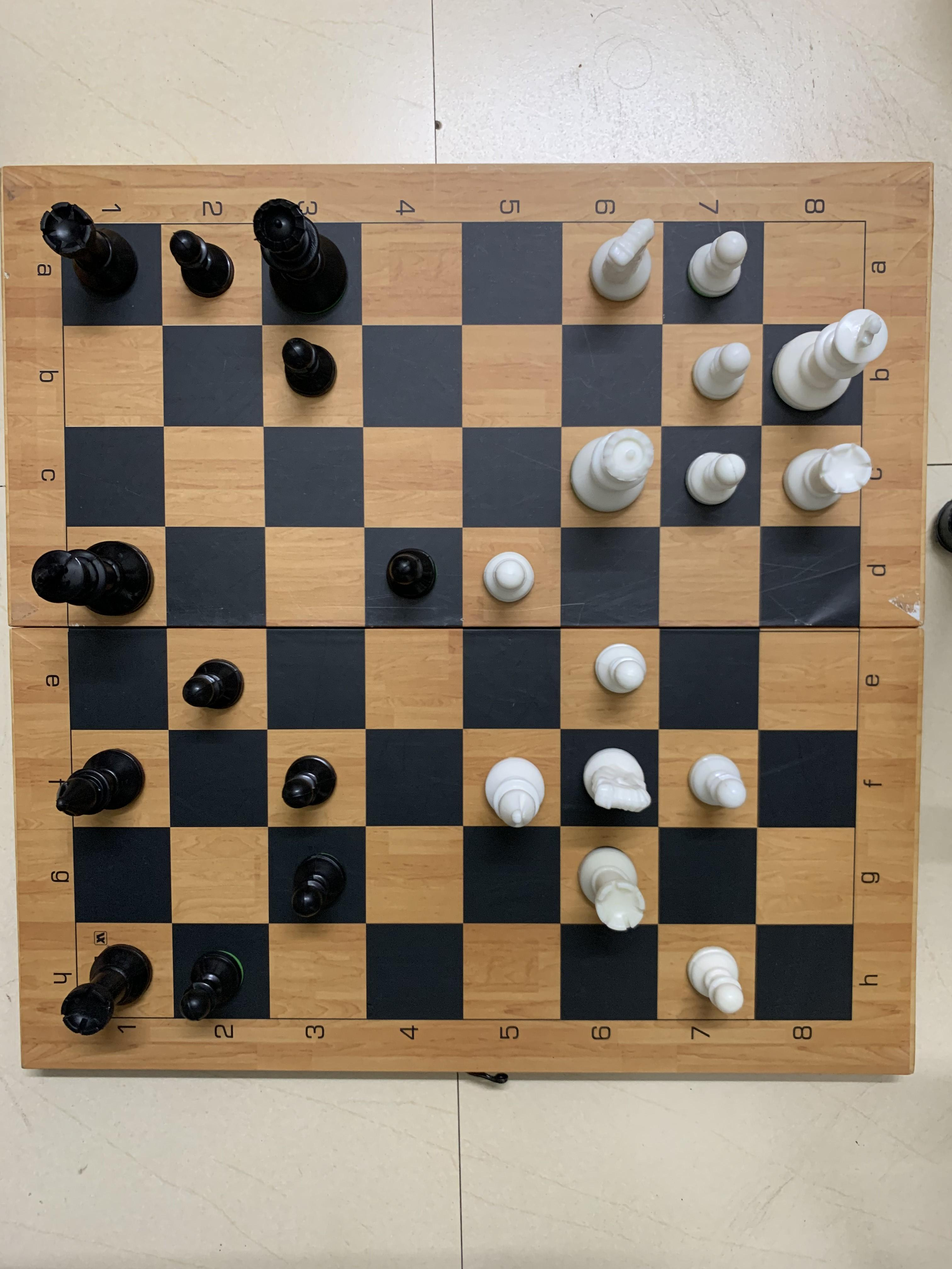black_bishop: (52, 743, 148, 826)
black_king: (23, 531, 158, 619)
black_pawn: (177, 944, 254, 1031), (164, 221, 239, 303), (272, 333, 345, 404), (285, 844, 349, 922), (183, 651, 248, 716), (274, 751, 342, 813), (383, 542, 441, 606)
black_queen: (243, 193, 357, 320)
black_rook: (33, 197, 149, 306), (56, 936, 155, 1039)
white_bishop: (477, 751, 550, 832)
white_king: (768, 301, 899, 417)
white_knight: (582, 215, 672, 312), (578, 739, 655, 824)
white_pawn: (682, 939, 753, 1017), (679, 748, 755, 815), (684, 335, 753, 408), (687, 228, 750, 298), (476, 545, 543, 607), (683, 444, 746, 509), (589, 637, 649, 702)
white_queen: (552, 425, 666, 516)
white_rook: (571, 840, 660, 938), (776, 436, 877, 522)
